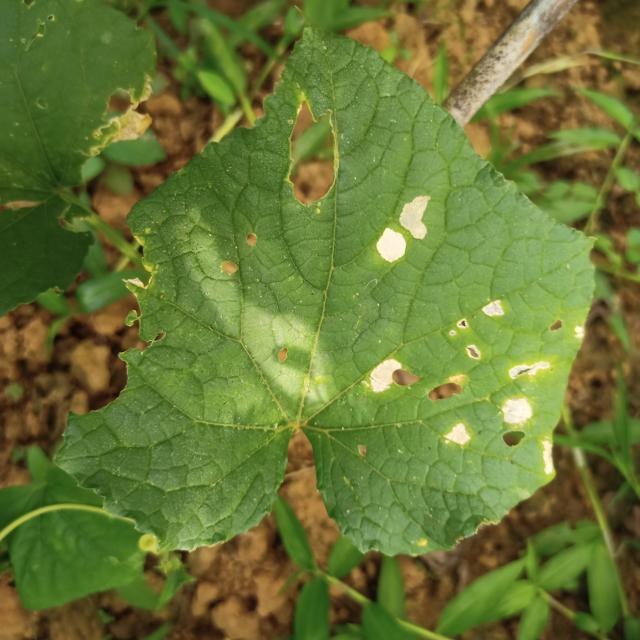disease_cucumber: (374, 300, 553, 474), (378, 197, 430, 261)
